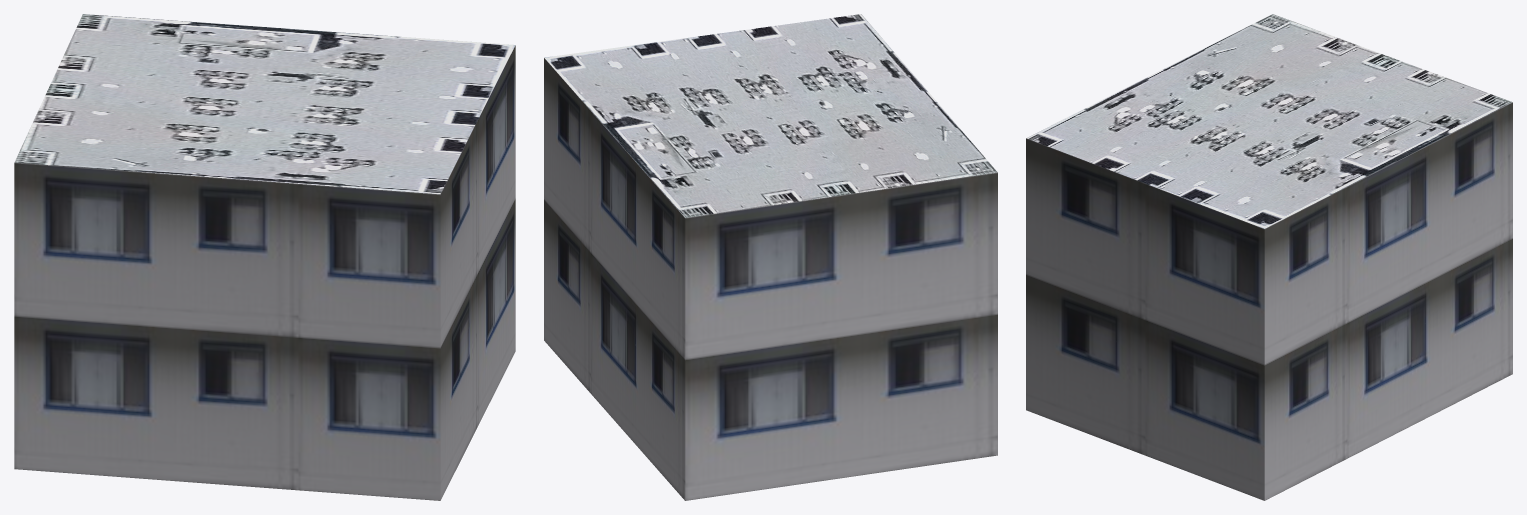
Rendered from ResTex__174.fbx.
The picture shows the model from 3 angles, left to right: view 1: azimuth 30°, elevation 25°; view 2: azimuth 150°, elevation 25°; view 3: azimuth 270°, elevation 25°; orthographic projection. The views are drawn at different scales.
Parts seen in each view (by area): view 1: CityEngineMaterial_9_m, CityEngineMaterial_4_m; view 2: CityEngineMaterial_9_m, CityEngineMaterial_4_m; view 3: CityEngineMaterial_9_m, CityEngineMaterial_4_m.
Part boxes in pixels (box(x1,y1,x2,y2)): CityEngineMaterial_9_m: box(14, 45, 515, 500); CityEngineMaterial_4_m: box(14, 14, 515, 194); CityEngineMaterial_9_m: box(544, 58, 997, 500); CityEngineMaterial_4_m: box(544, 14, 997, 217); CityEngineMaterial_9_m: box(1026, 102, 1512, 500); CityEngineMaterial_4_m: box(1026, 14, 1512, 228).
Bounding box in the file's own units: 10.17 × 6 × 9.73.
Materials: 2 (2 with a texture image).
